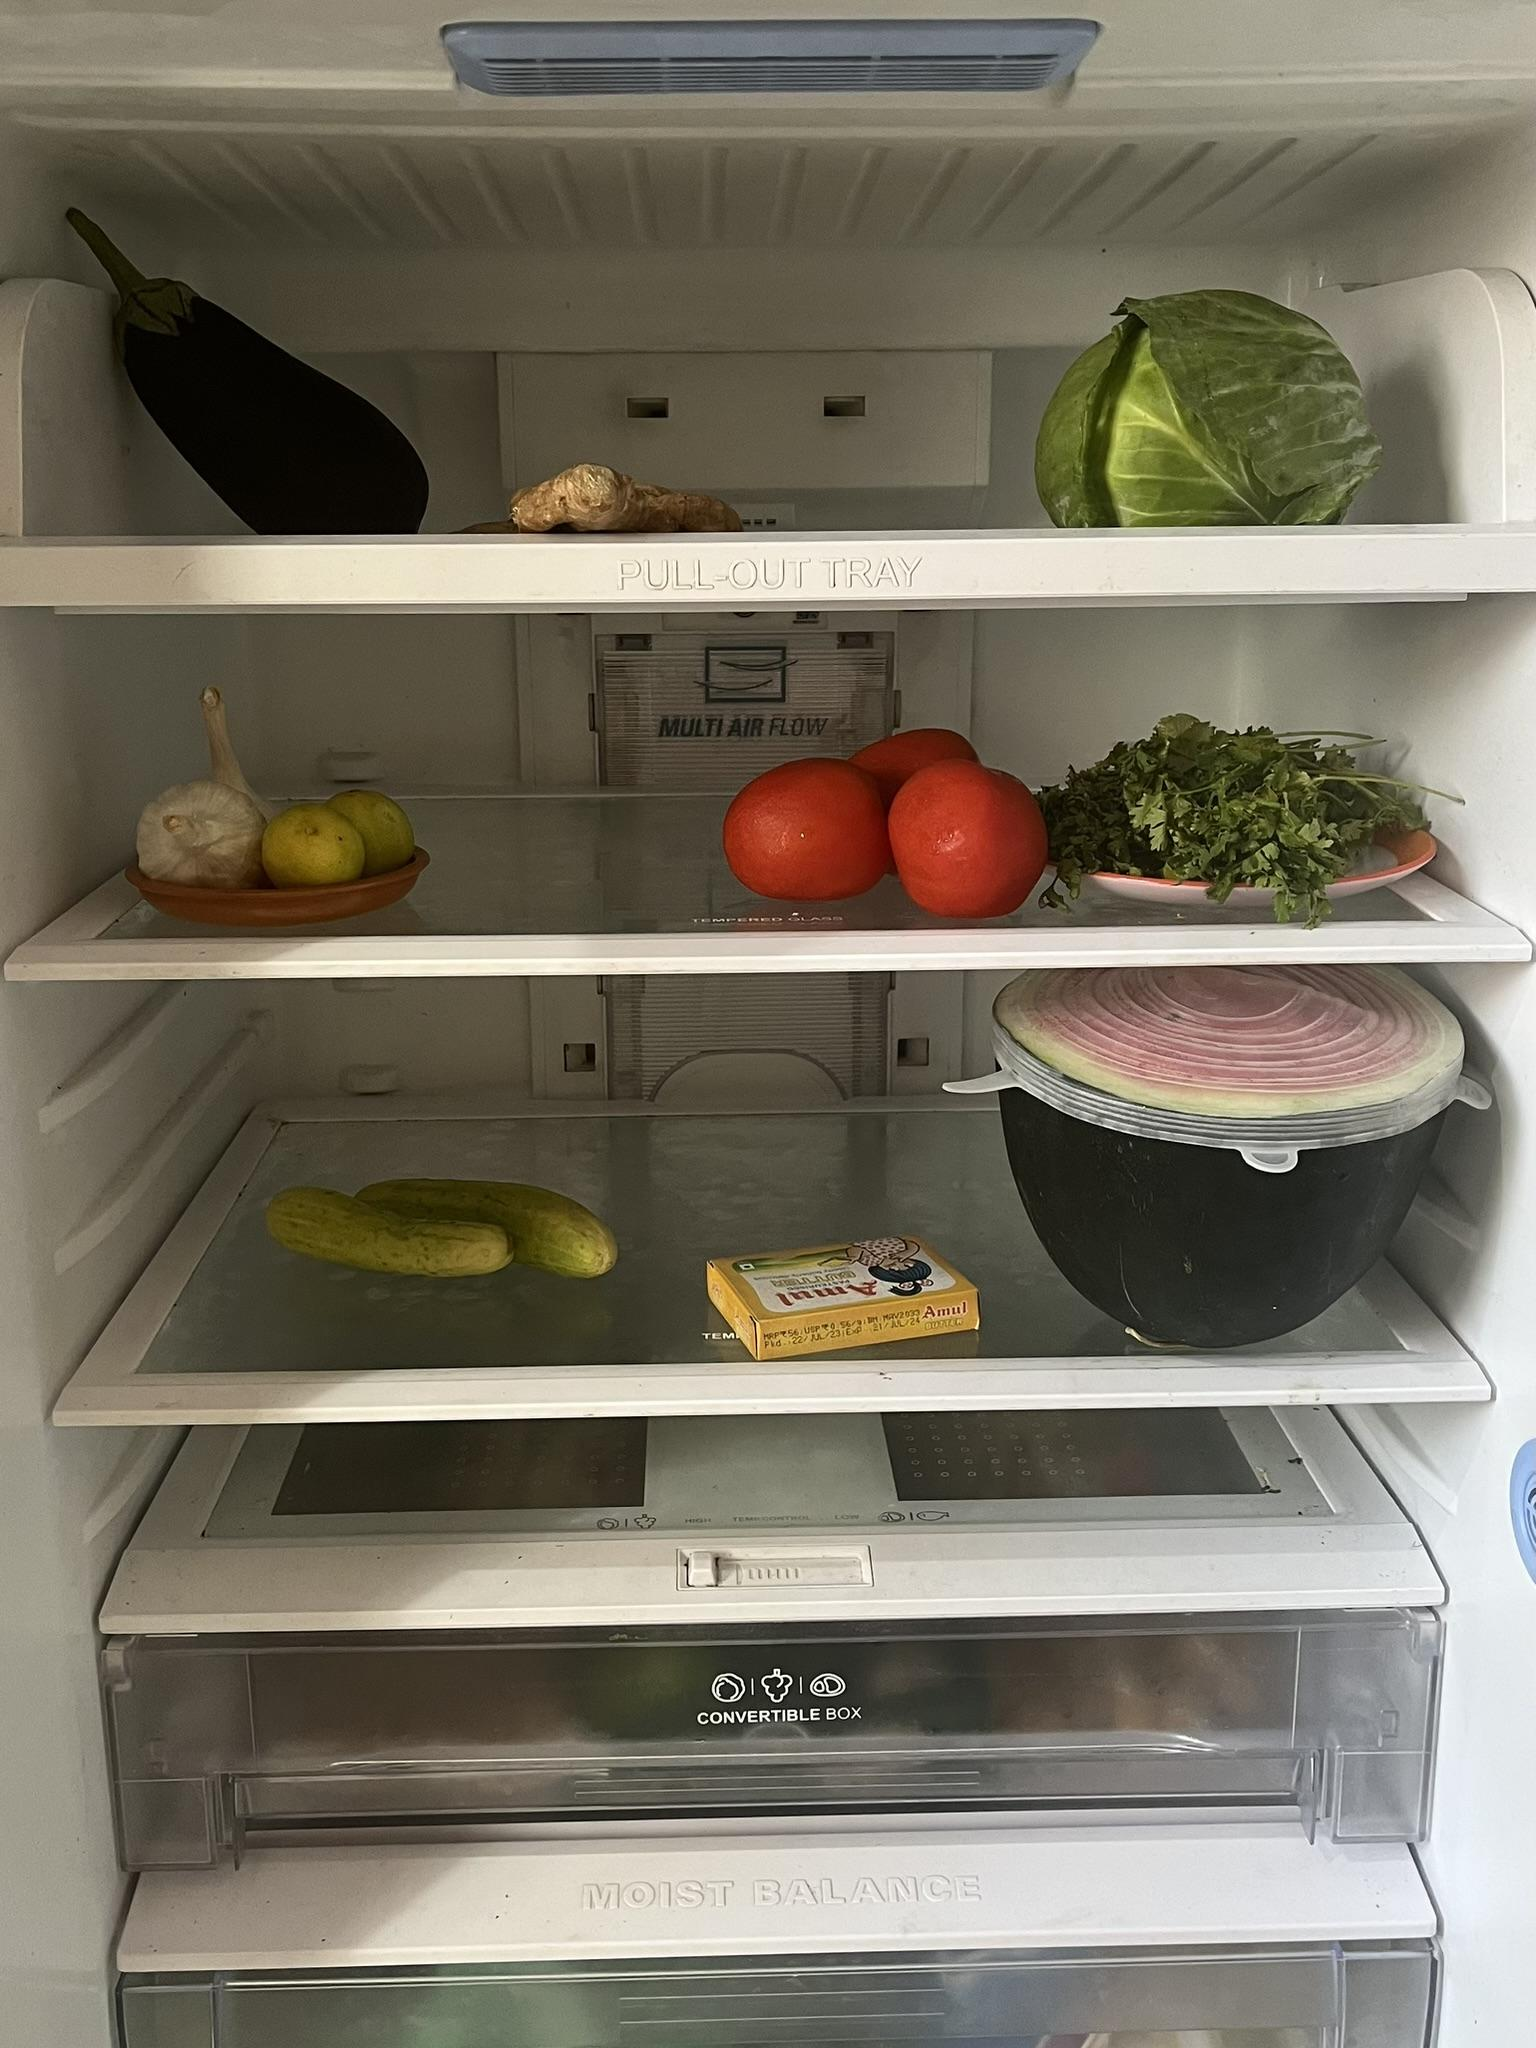bringal: (60, 187, 440, 534)
butter: (697, 1227, 997, 1350)
cabbage: (1029, 273, 1386, 527)
coriander: (1041, 716, 1423, 880)
cucumber: (263, 1163, 626, 1277)
garlic: (116, 674, 266, 880)
ginger: (494, 443, 766, 524)
lemon: (276, 774, 416, 890)
tomato: (716, 713, 1054, 906)
watermelon: (973, 966, 1473, 1337)
